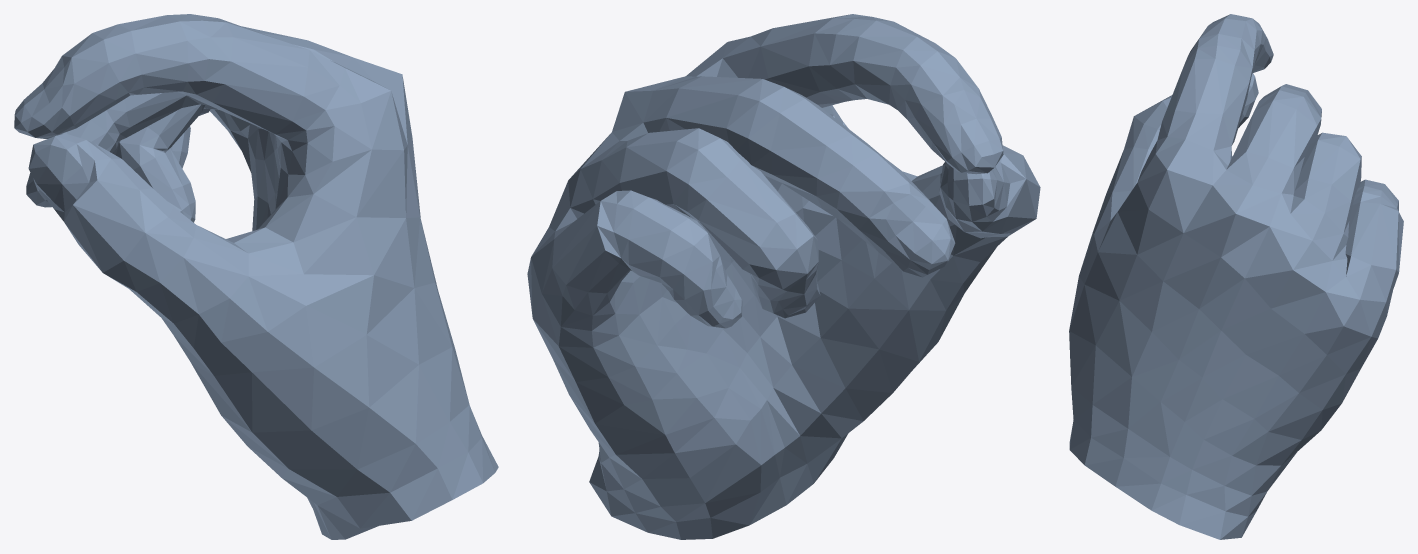
3 renders of one model, left to right at view 1: azimuth 30°, elevation 25°; view 2: azimuth 150°, elevation 25°; view 3: azimuth 270°, elevation 25°, orthographic. The views are drawn at different scales.
Size of the model in its own units: 0.1124 by 0.1361 by 0.0986.
